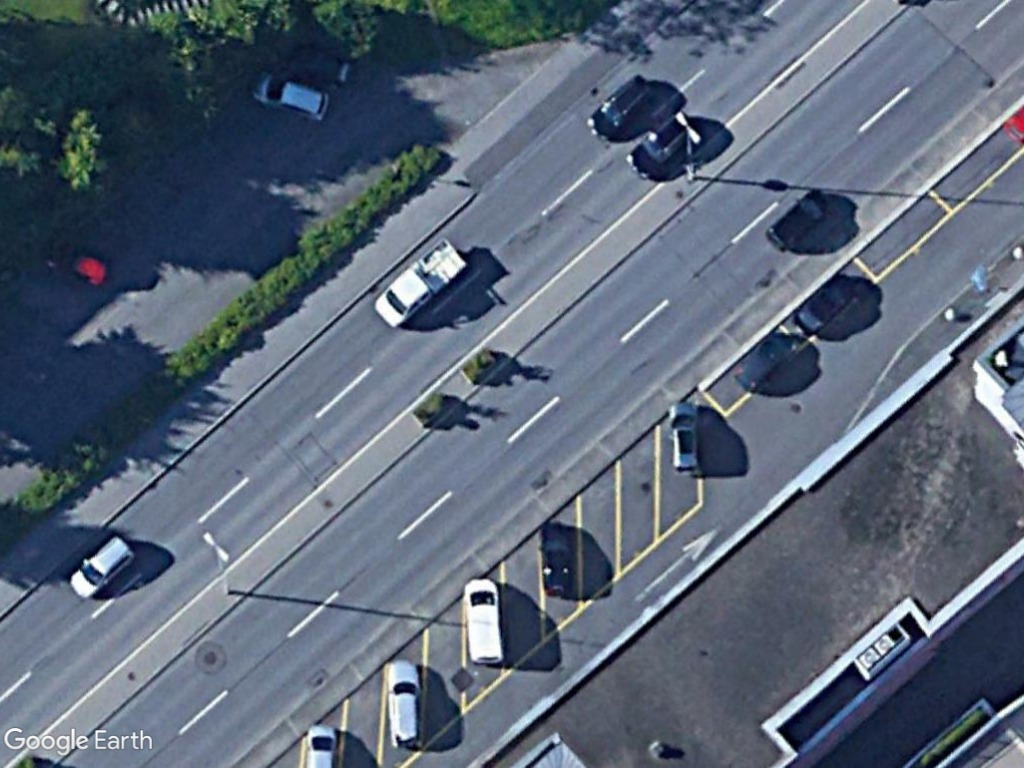car: (250, 68, 334, 125), (69, 533, 133, 601), (386, 658, 425, 750), (666, 399, 705, 480)
others: (373, 235, 468, 332)
van: (464, 575, 505, 669)
